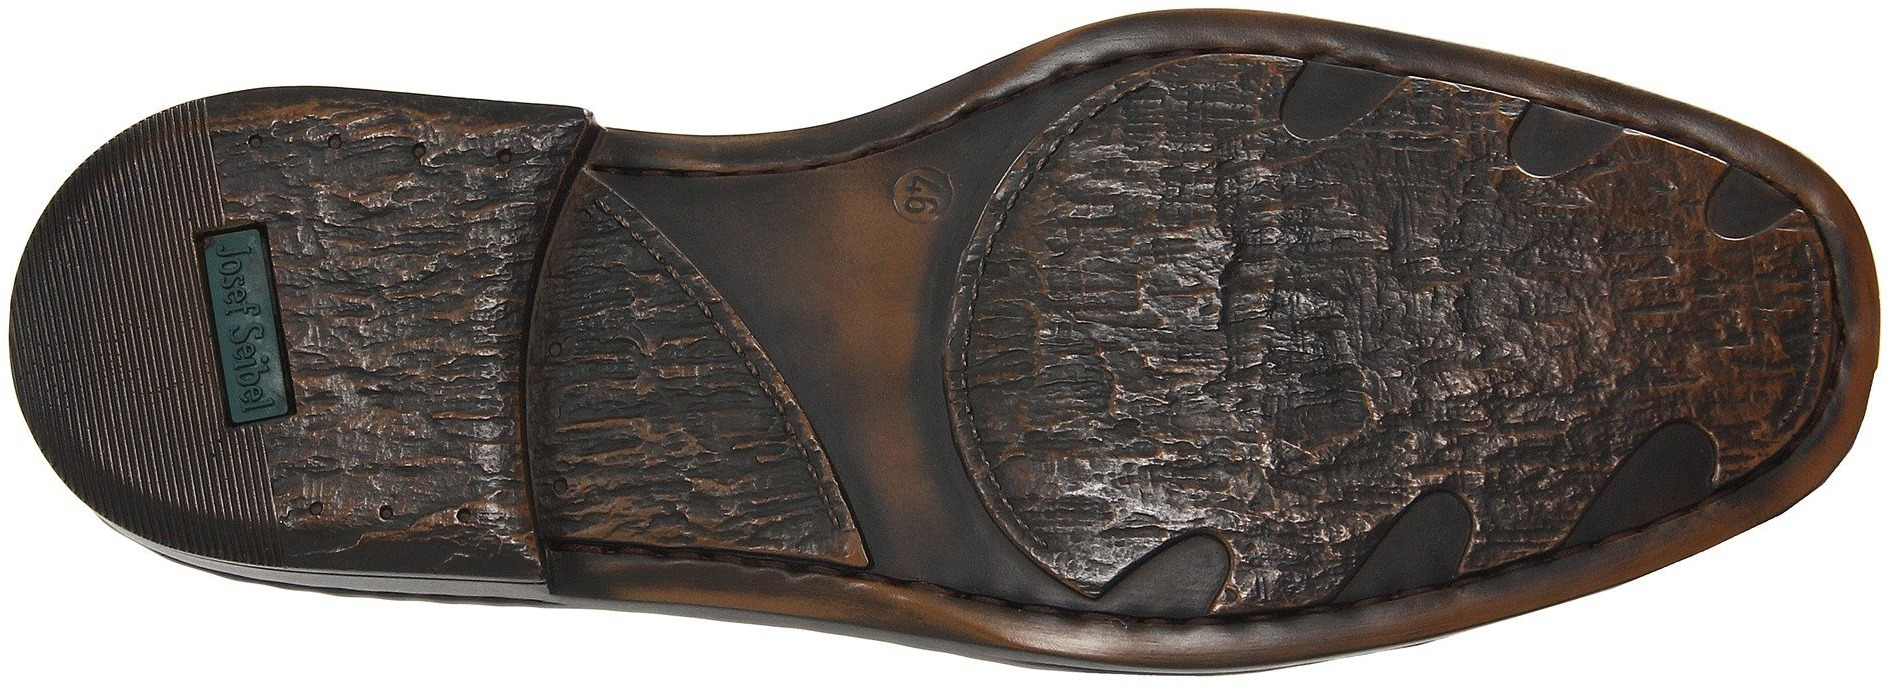other: (33, 229, 183, 405), (729, 167, 890, 316)
text: (893, 169, 963, 238), (209, 235, 269, 302)
